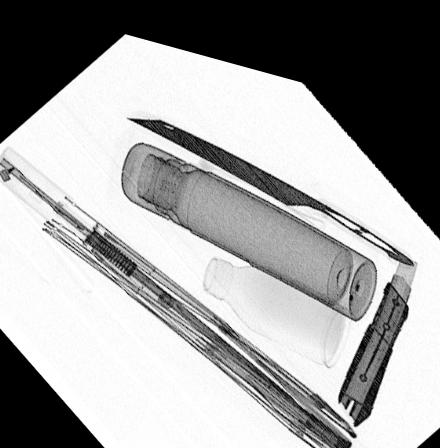Knife: (124, 109, 413, 243), (336, 233, 418, 407)
